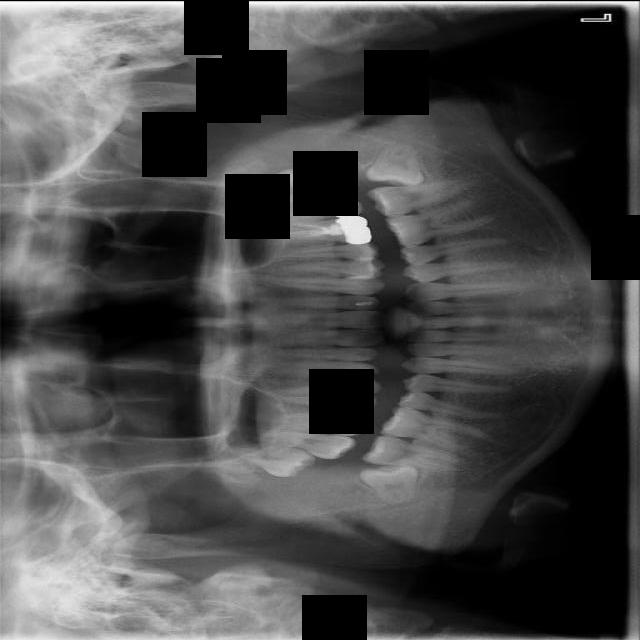3M ESPE Implant: (219, 443, 316, 478)
52: (362, 175, 415, 227), (380, 203, 430, 256), (317, 175, 367, 227), (359, 425, 406, 474), (379, 403, 421, 439), (335, 212, 374, 247), (326, 408, 371, 437), (338, 293, 381, 310)
73: (255, 218, 346, 242), (610, 10, 620, 20)
BioHorizons Implant: (250, 185, 365, 229)
BioLife Implant: (218, 161, 332, 216)
Biomet 3i Implant: (362, 130, 437, 206)
Blue Sky Bio Implant: (364, 172, 481, 221)
Caries: (238, 423, 359, 462)
Implant: (360, 431, 475, 477)
Keystone Dental Implant: (359, 461, 419, 505)
